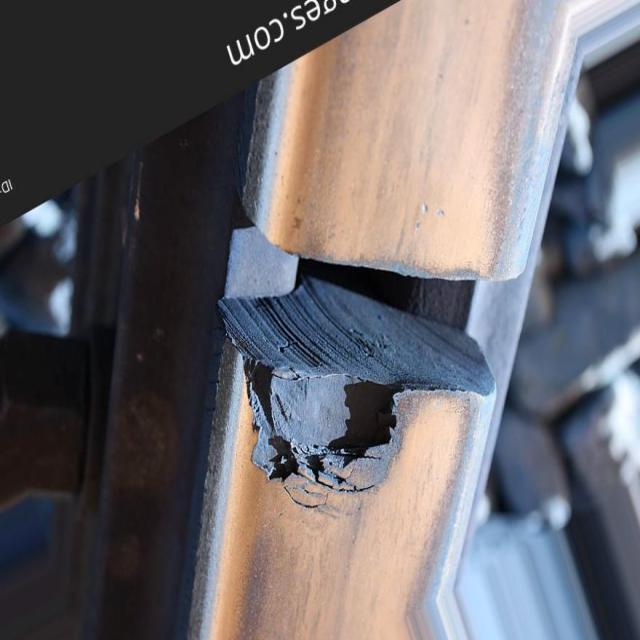crack: (225, 125, 538, 500)
